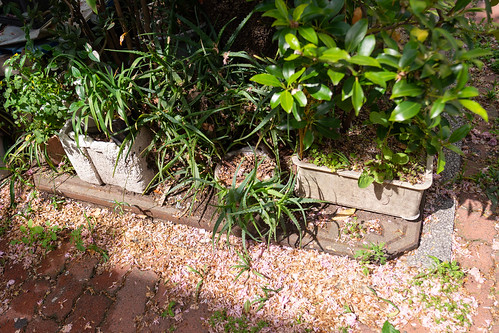vegetation: (1, 1, 469, 240)
